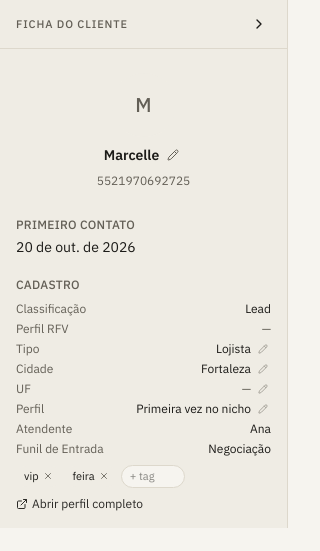
Test: ficha do contato no chat › admin e gerente editam no lugar: cidade salva com os outros campos como estão; tag nova adicionada
Check: the text "Fortaleza" is shown, box [201,361,251,377]
Click the button named "Editar cidade".
click(263, 369)  # box [255,361,271,377]
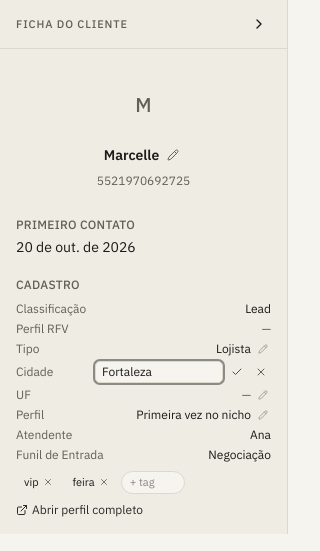
Replace the text in the field named "Cidade" with "Recife" at {"x": 159, "y": 372}, box [95,361,223,383]
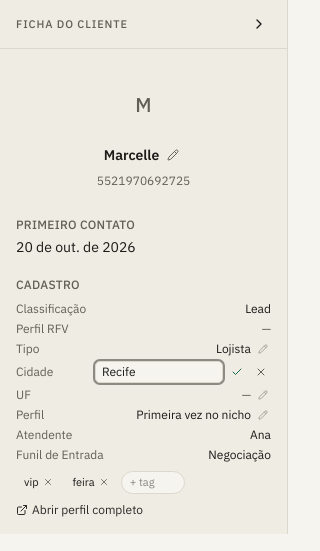
Press Enter in the field named "Cidade", box [95,361,223,383]
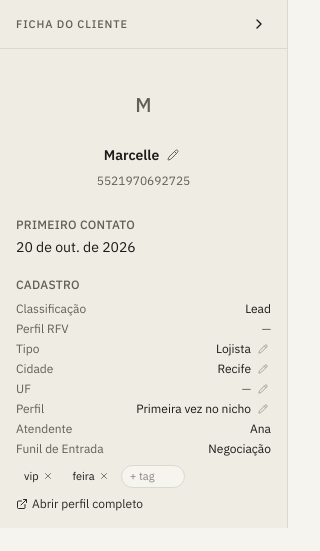
Check: the text "Recife" is shown, box [217,361,251,377]
Type "Atacado" into the field named "Nova tag".
click(153, 476); type("Atacado")  # box [121,465,185,488]
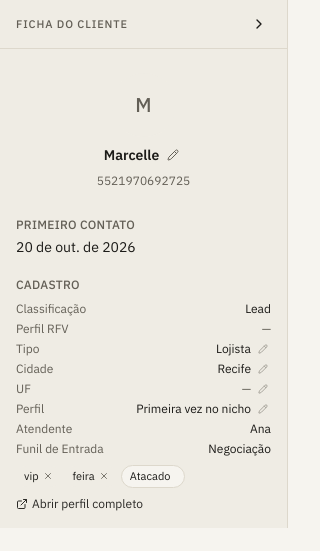
Press Enter in the field named "Nova tag", box [121,465,185,488]
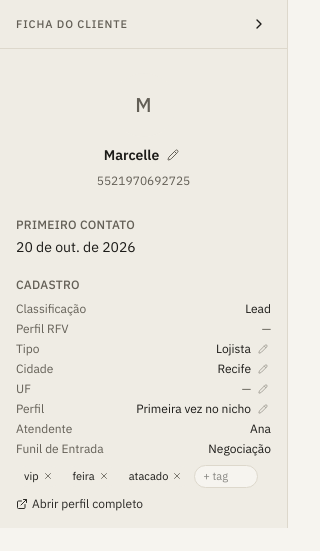
Check: the text "atacado" is shown, box [121,466,190,486]
